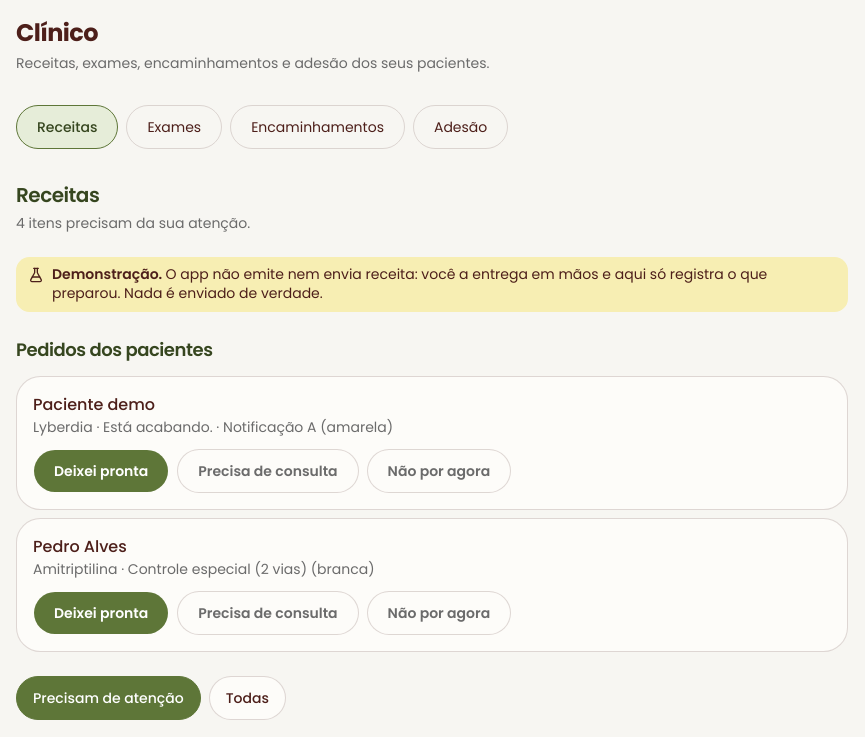
Clínico › reúne Receitas, Exames, Encaminhamentos e Adesão em abas
Check: the heading "Clínico" is shown, box [16,16,98,49]
Click the tab "Exames" at coordinates (174, 127), box [126,105,222,149]
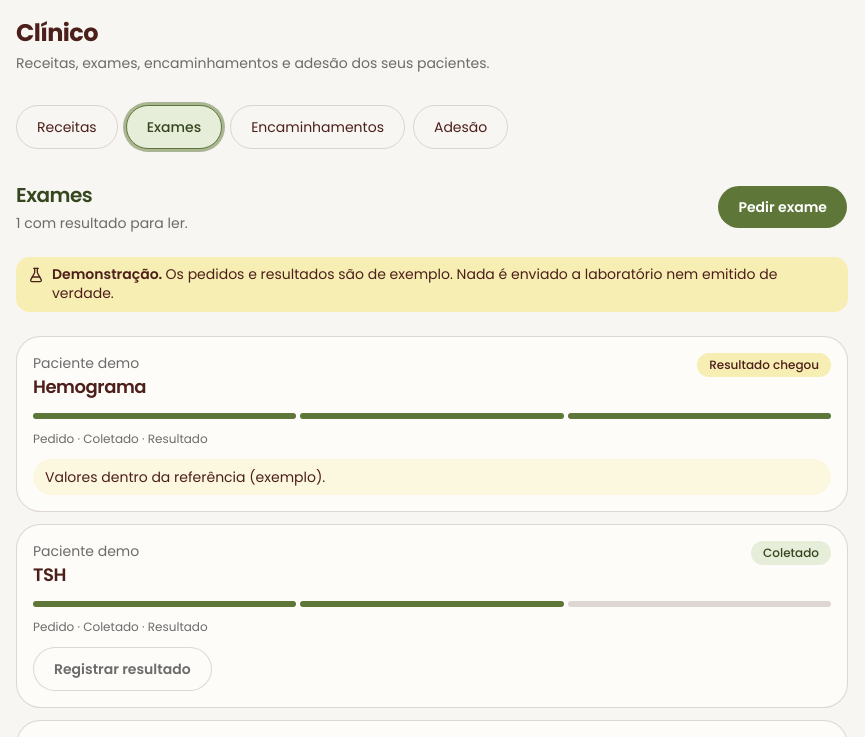
Check: the heading "Exames" is shown, box [16,181,92,209]
Click the tab "Encaminhamentos" at coordinates (318, 127), box [230,105,405,149]
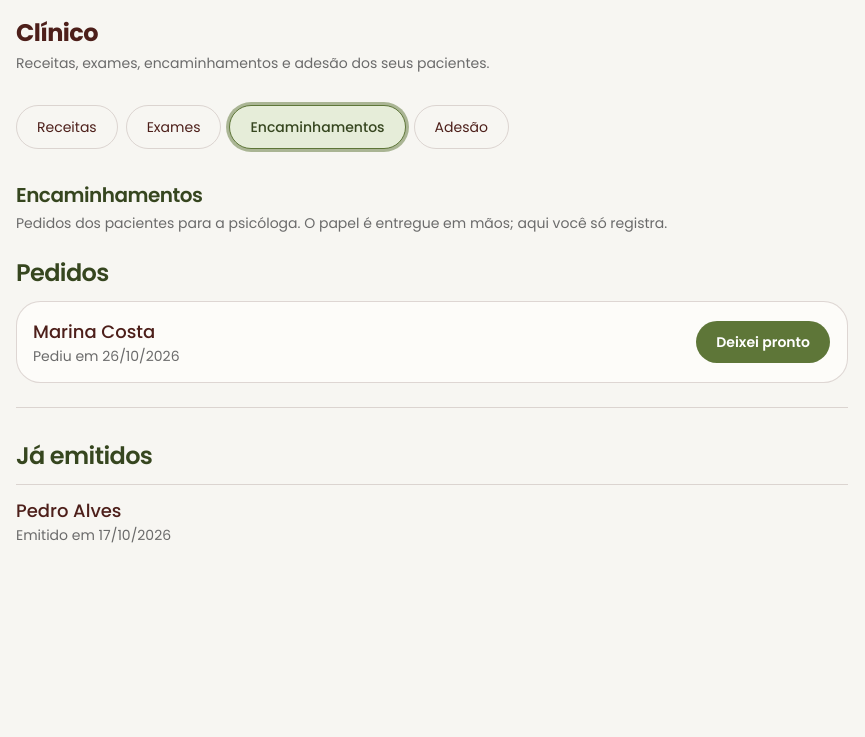
Check: the heading "Encaminhamentos" is shown, box [16,181,202,209]
